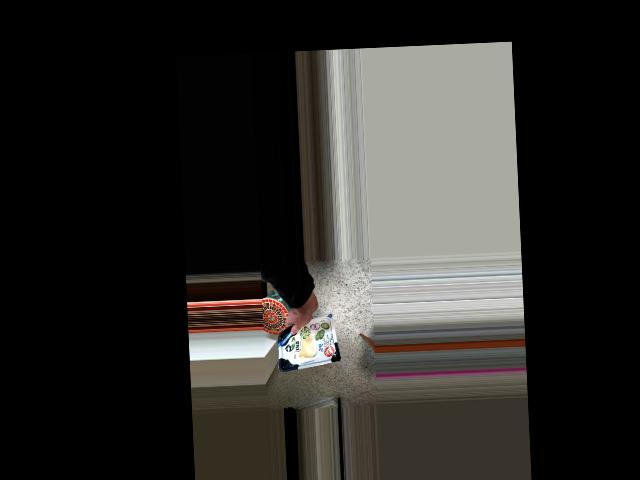cheese: (287, 304, 338, 355)
